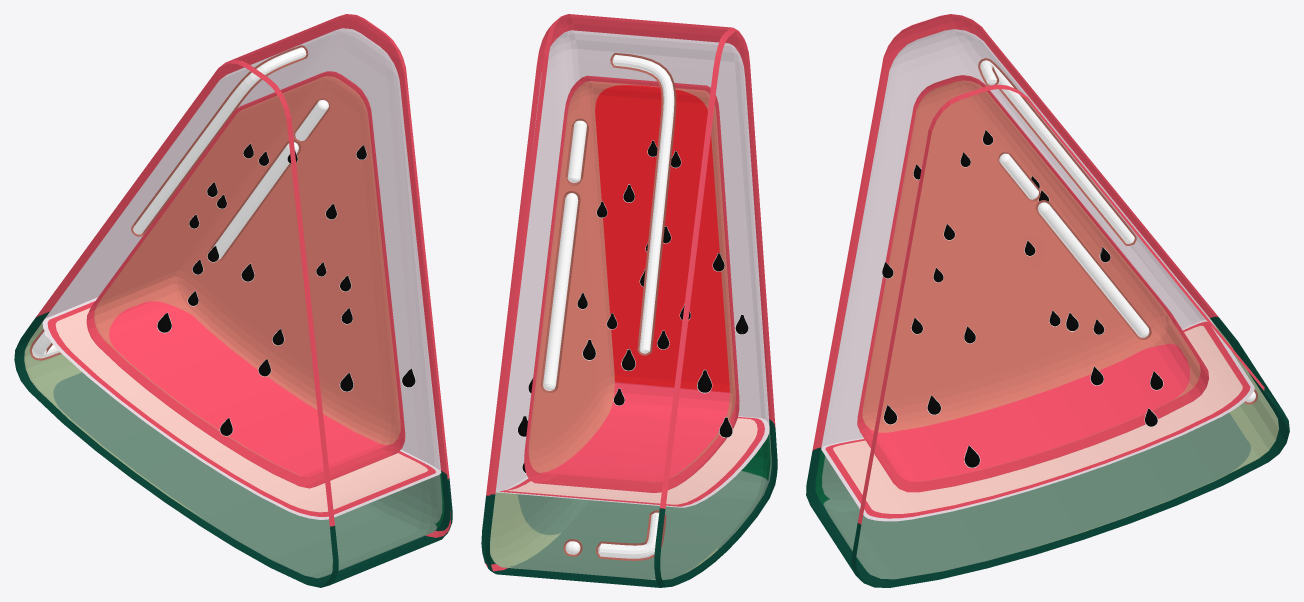
File: watermelon.glb
The picture shows the model from 3 angles, left to right: view 1: azimuth 30°, elevation 25°; view 2: azimuth 150°, elevation 25°; view 3: azimuth 270°, elevation 25°; orthographic projection. The views are drawn at different scales.
Parts seen in each view (by area): view 1: watermelon; view 2: watermelon; view 3: watermelon.
Boxes of the visible parts, x1,y1,x2,y2 form: watermelon: (14,14,452,587); watermelon: (481,14,777,587); watermelon: (806,14,1289,587).
Bounding box in the file's own units: 1.27 × 2.35 × 2.06.
Materials: 4 (4 with a texture image).
